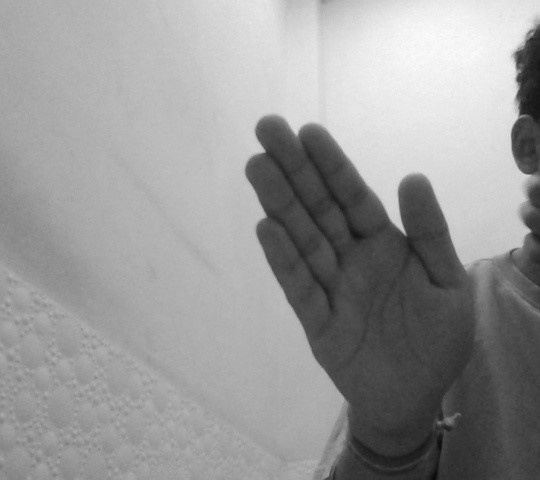Hello: (237, 104, 484, 429)
